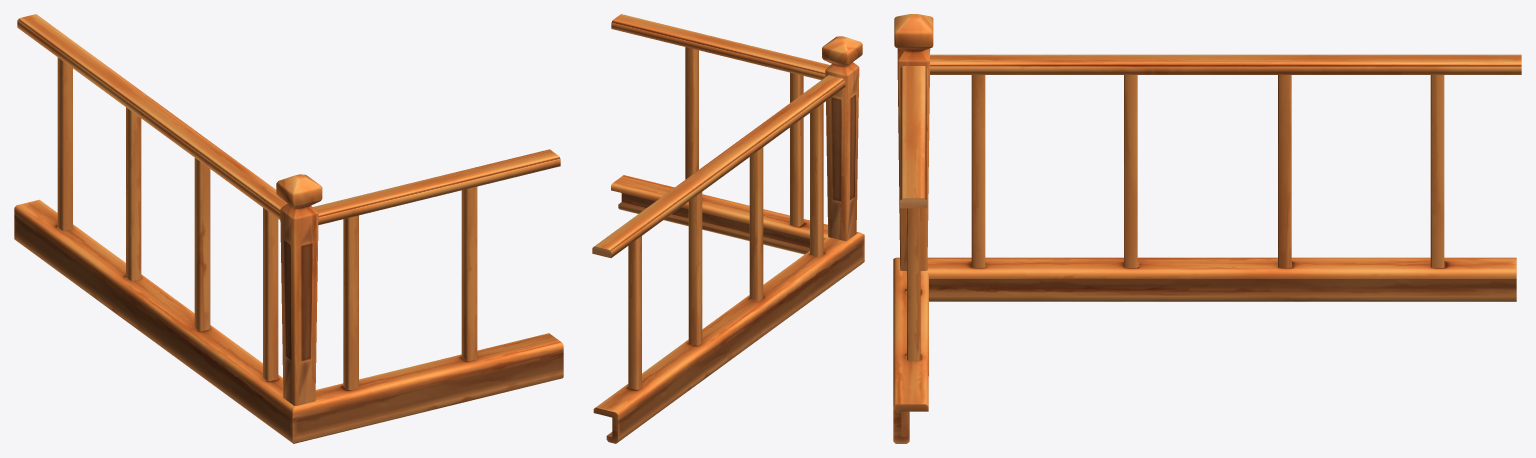
The model's file is PropStairs01PTypeB2.FBX.
The picture shows the model from 3 angles, left to right: view 1: azimuth 30°, elevation 25°; view 2: azimuth 150°, elevation 25°; view 3: azimuth 270°, elevation 25°; orthographic projection. The views are drawn at different scales.
Visible parts, largest first — view 1: PropStairs01PTypeB2; view 2: PropStairs01PTypeB2; view 3: PropStairs01PTypeB2.
Boxes of the visible parts, x1=… form: PropStairs01PTypeB2: x1=14, y1=14, x2=563, y2=443; PropStairs01PTypeB2: x1=592, y1=14, x2=864, y2=443; PropStairs01PTypeB2: x1=893, y1=14, x2=1521, y2=443.
Size of what is drawn, in the model's own units: 1.28 by 1.16 by 2.3.
